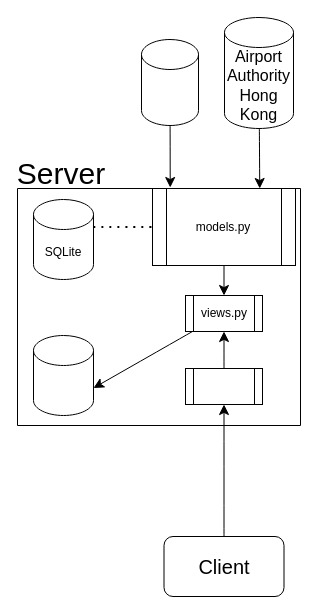
Some shapes in this 318 by 614 pixel diagram are drawn without their labels. Each missing label, with the centre of its shape:
"HKO OPEN DATA" belongs at (169,82).
"templates" belongs at (63,375).
"urls.py" belongs at (223,386).
